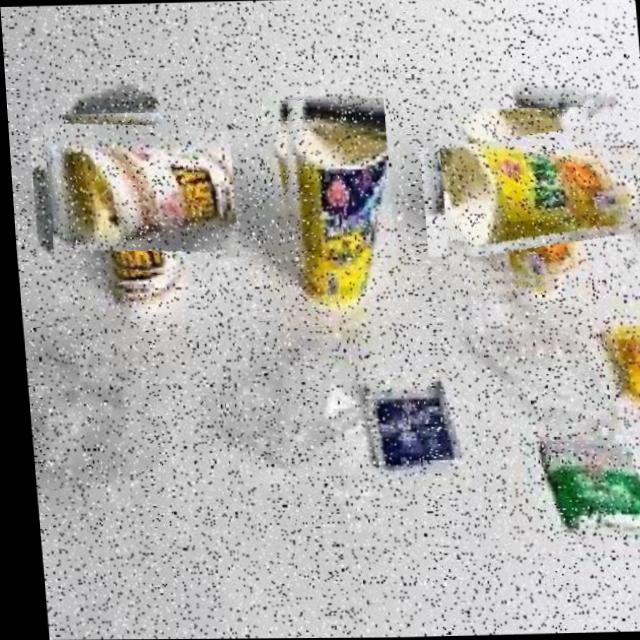Miscellaneous: (433, 105, 630, 292), (39, 110, 220, 282), (260, 97, 396, 320)
